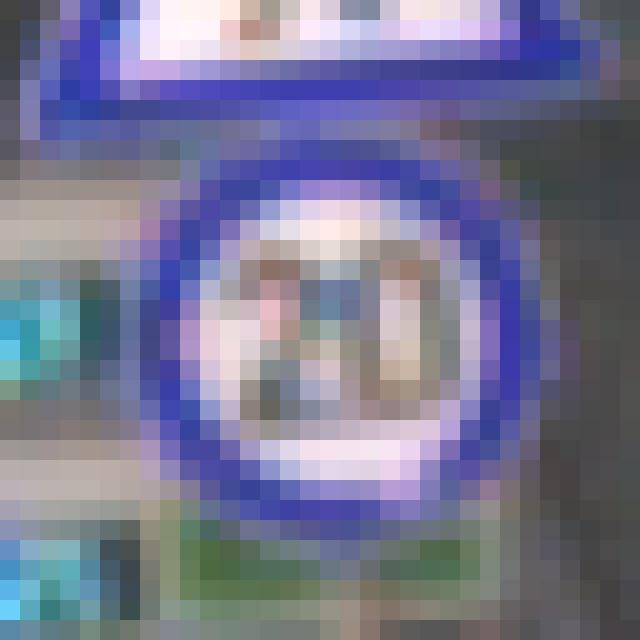SPEED LIMIT 20: (140, 159, 588, 552)
